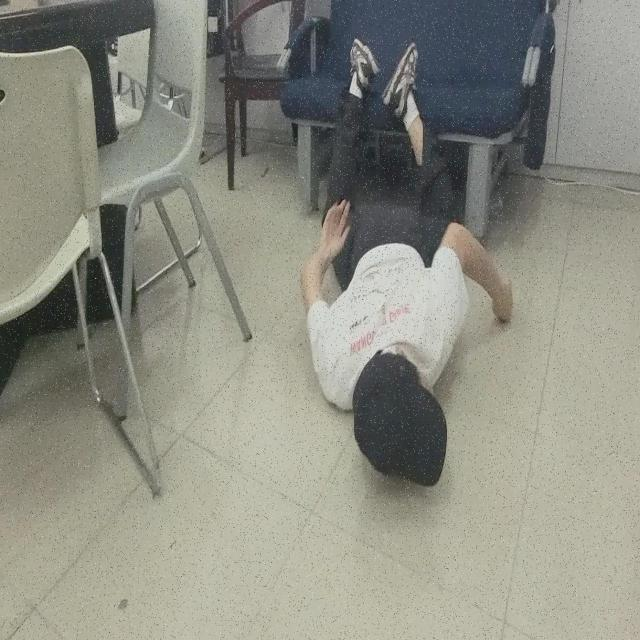fall: (296, 36, 515, 494)
